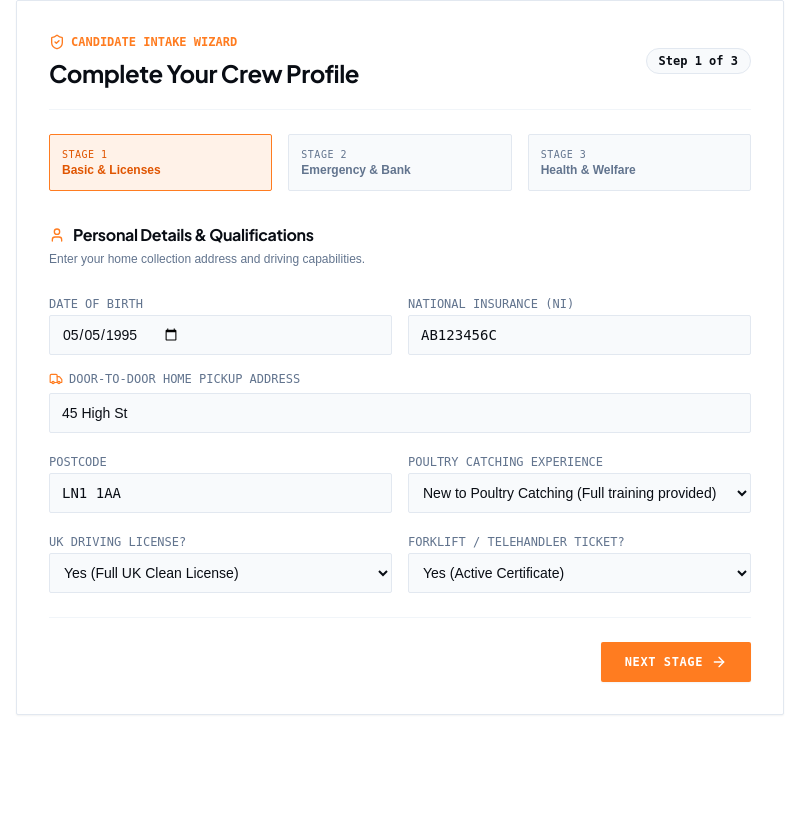
Scenario: CRM Features Integration Tests › IntakeWizard Component › should support Back button navigation between steps without losing state
Expected: the text "Step 1 of 3" is shown, [646, 48, 751, 74]
Click the button "Next Stage". click: (676, 662)
box: [601, 642, 751, 682]
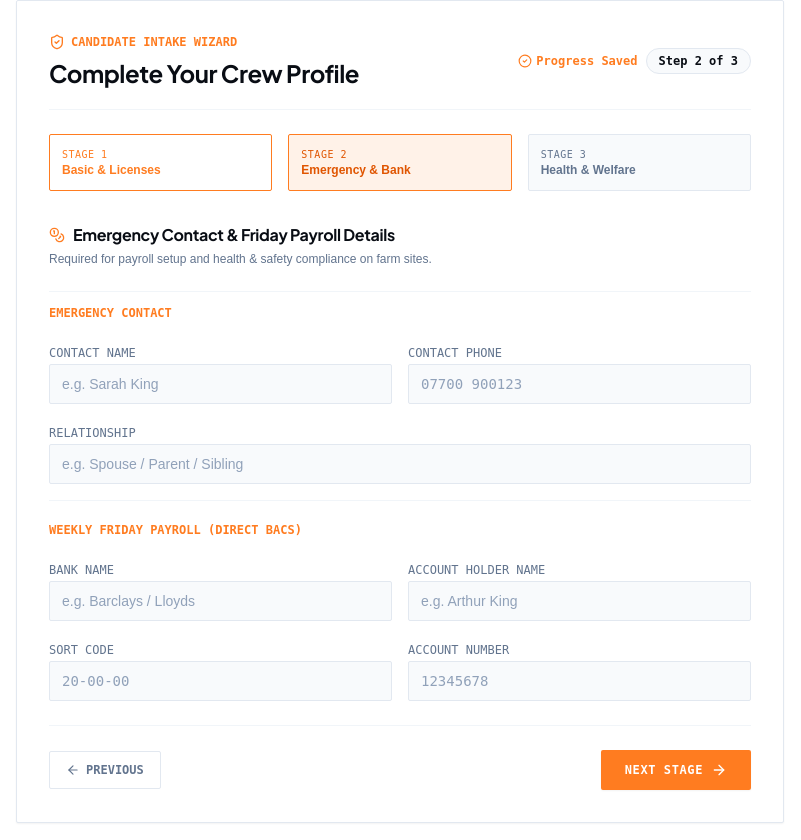
Now the text "Step 2 of 3" is shown, box [646, 48, 751, 74]
Note: In Step 2, click Previous
Click the button "Previous". click: (105, 770)
box: [49, 751, 161, 789]
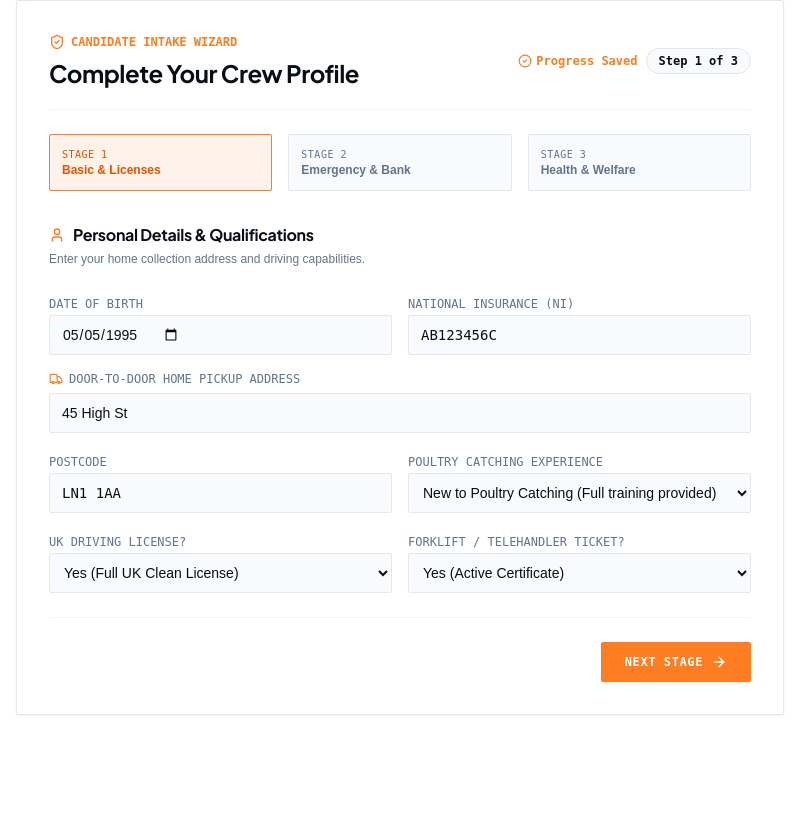
Now the text "Step 1 of 3" is shown, box [646, 48, 751, 74]
Now the dropdown named "hasDrivingLicense" below "UK Driving License?" shows "Yes (Full UK Clean License)", box [49, 553, 392, 593]
